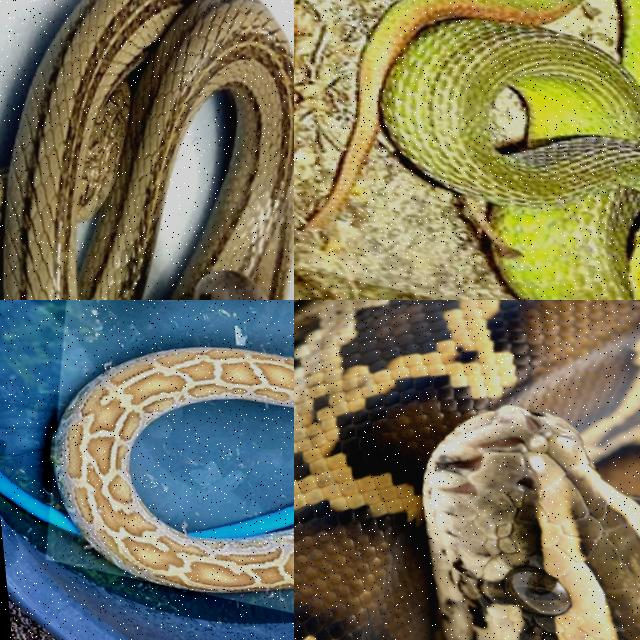Calliophis intestinalis: (0, 0, 293, 299)
Python bivittatus: (294, 300, 639, 639), (51, 346, 293, 591)
Trimeresurus: (309, 0, 639, 299)
